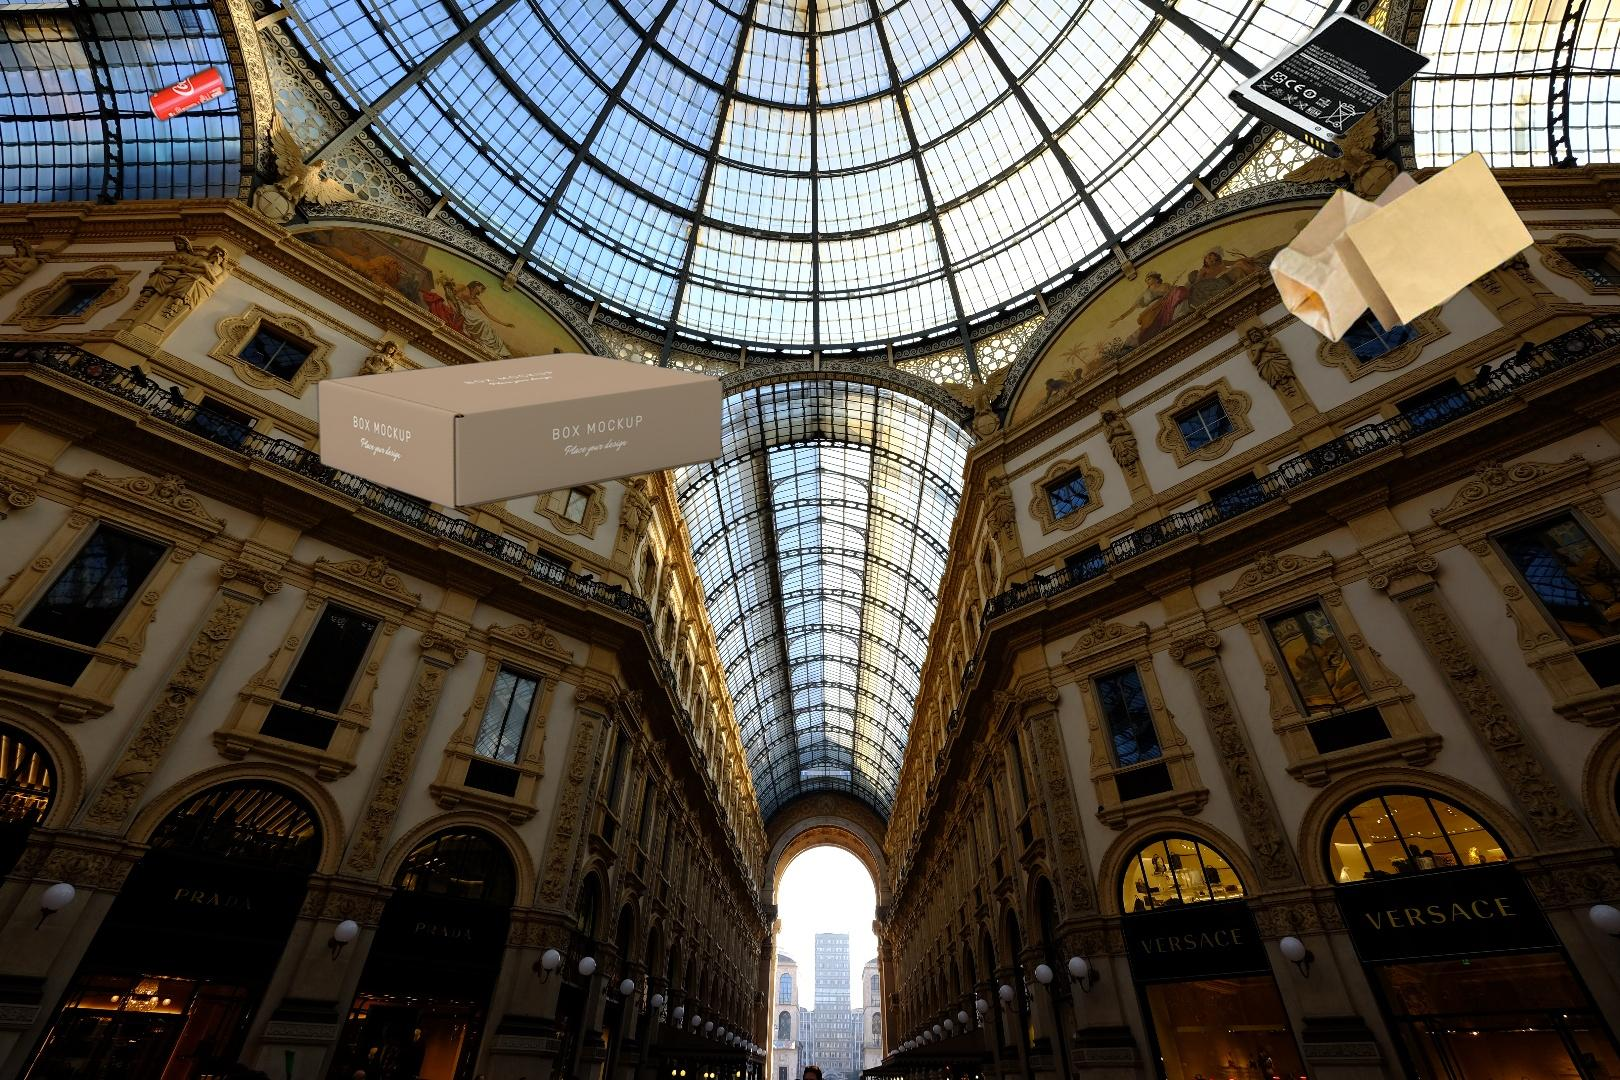battery: (1223, 8, 1433, 162)
metal-cans: (143, 59, 233, 133)
paper-bag: (1266, 147, 1543, 356)
trashbox-cardboard: (312, 348, 728, 513)
